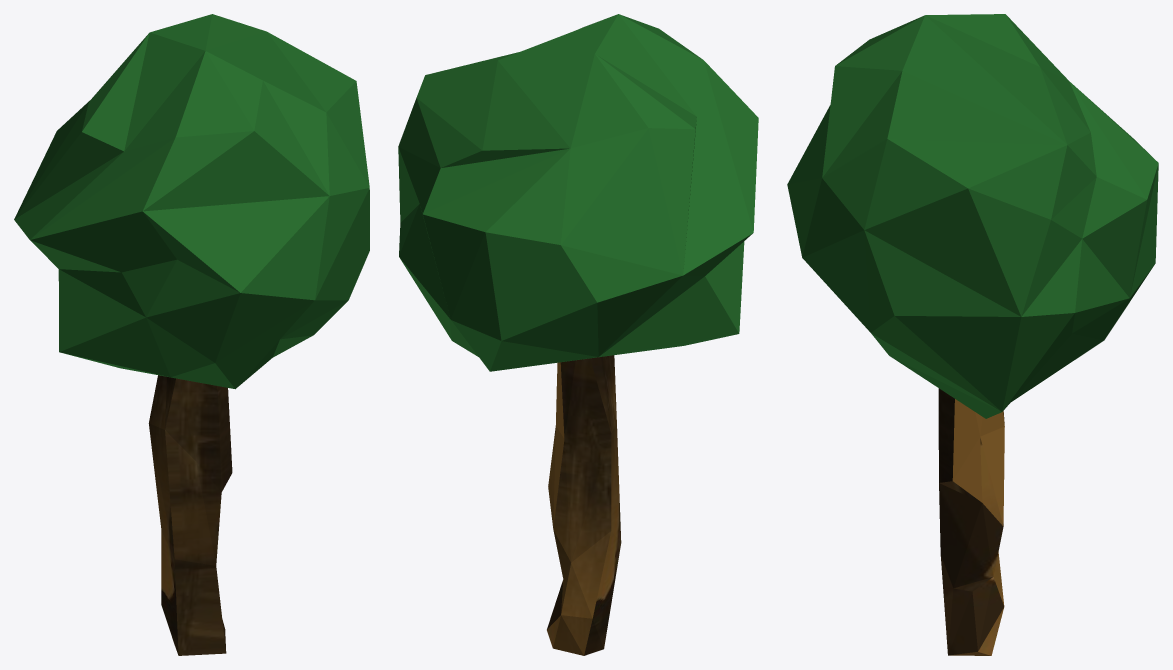
The model's file is Tree.fbx.
The picture shows the model from 3 angles, left to right: view 1: azimuth 30°, elevation 25°; view 2: azimuth 150°, elevation 25°; view 3: azimuth 270°, elevation 25°; orthographic projection.
Visible parts, largest first — view 1: Tree; view 2: Tree; view 3: Tree.
Part boxes in pixels (x1,y1,x2,y2): Tree: [14, 14, 369, 655]; Tree: [398, 14, 758, 655]; Tree: [787, 14, 1158, 655].
Size of the model in its own units: 30.89 by 30.03 by 55.73.
2 materials, 2 textured.
